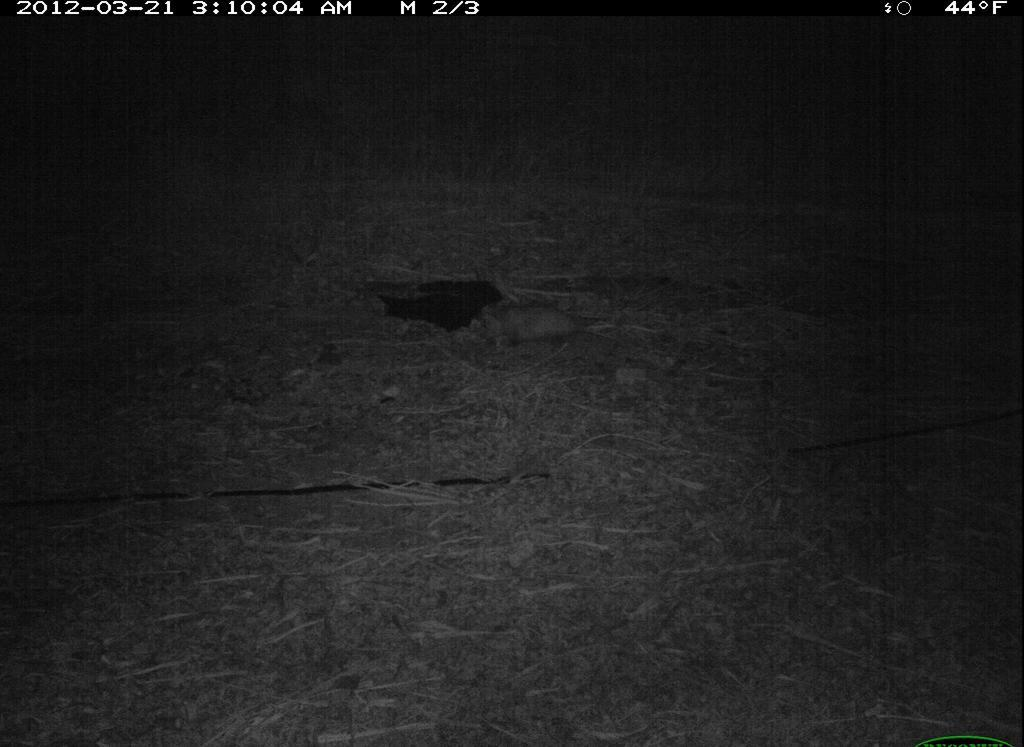opossum: (466, 289, 634, 361)
